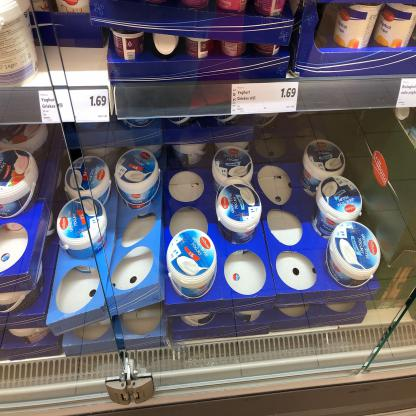prtg: (40, 91, 110, 125), (236, 84, 299, 116), (397, 78, 416, 109)
